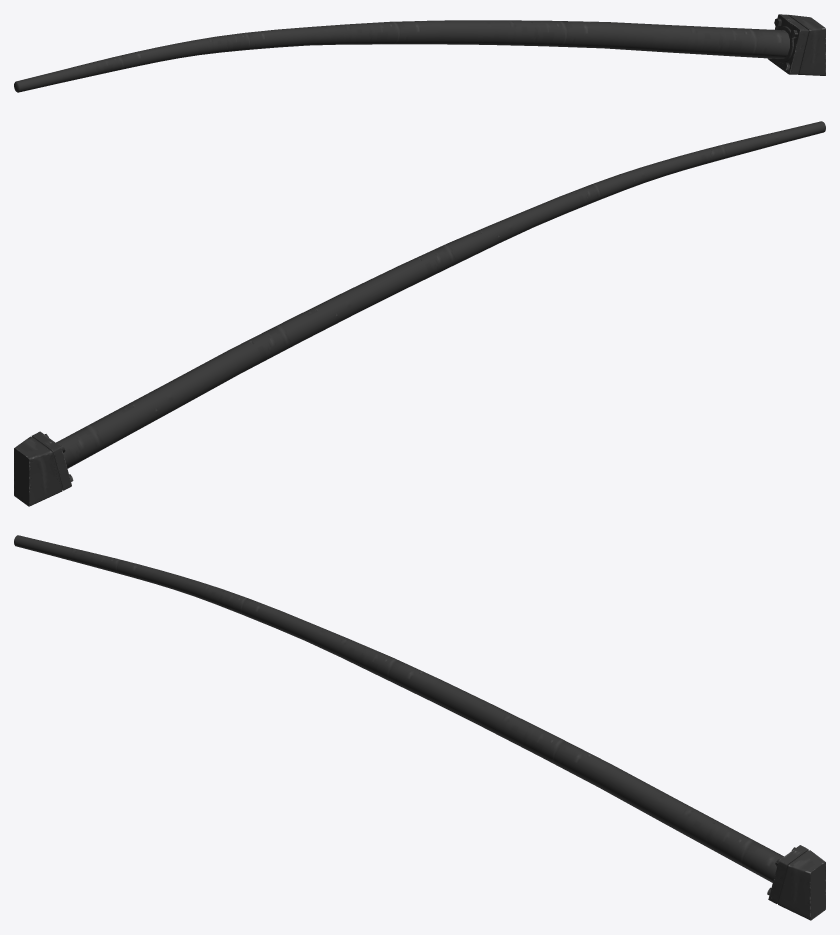
Rendered from signal_arm.glb.
3 renders of one model, top to bottom at view 1: azimuth 30°, elevation 25°; view 2: azimuth 210°, elevation 25°; view 3: azimuth 330°, elevation 25°, orthographic.
Visible parts, largest first — view 1: body; view 2: body; view 3: body.
Boxes of the visible parts, x1,y1,x2,y2 form: body: [14, 14, 825, 92]; body: [14, 121, 825, 506]; body: [14, 535, 825, 920].
Bounding box in the file's own units: 6.24 × 1.37 × 0.2933.
Materials: 1 (1 with a texture image).
